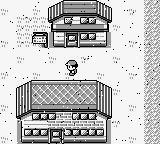leer: (32, 32, 48, 47)
main: (65, 60, 78, 76)
no-caminable: (16, 80, 111, 143), (48, 0, 112, 47)
puerta: (66, 33, 78, 47), (50, 129, 62, 143)
